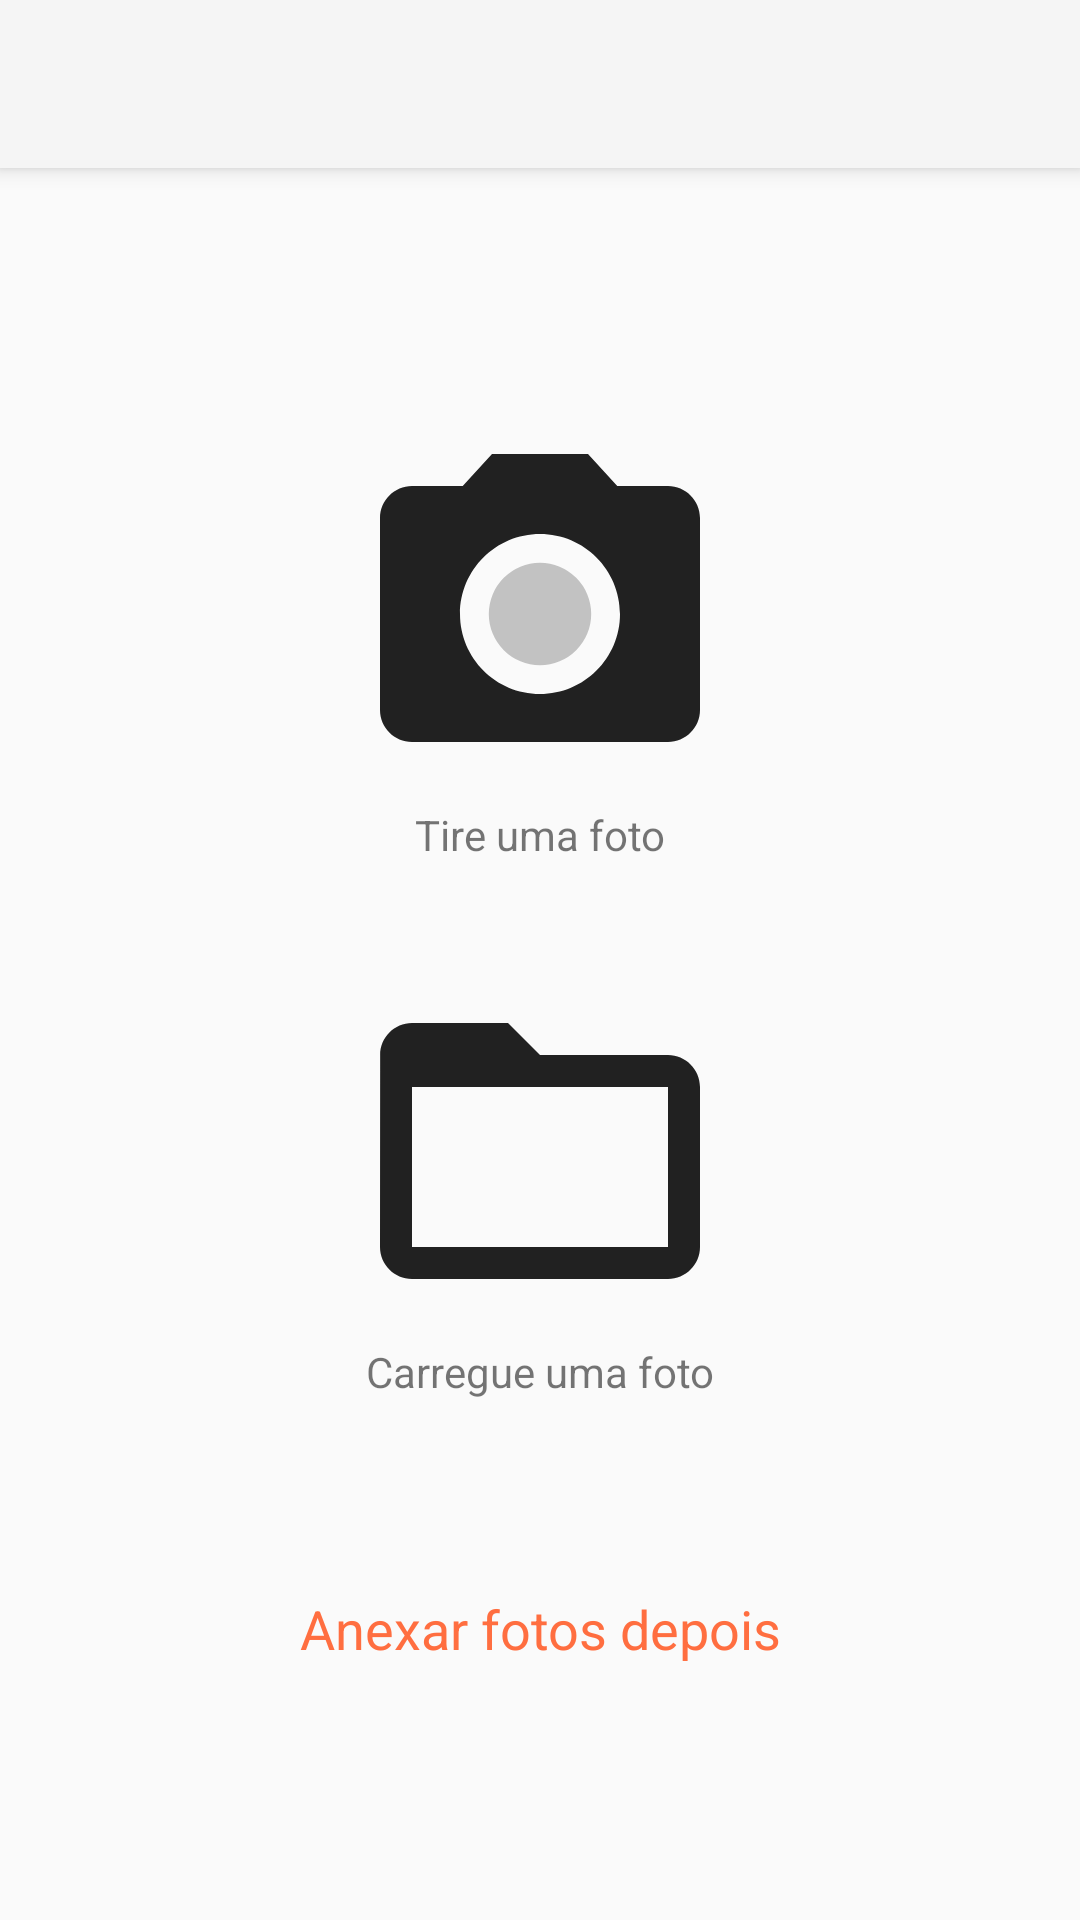

Icons on this 1080x1920 Android screen, each with the point to tap as (x,y):
camera: (540,598)
folder open: (540,1151)
